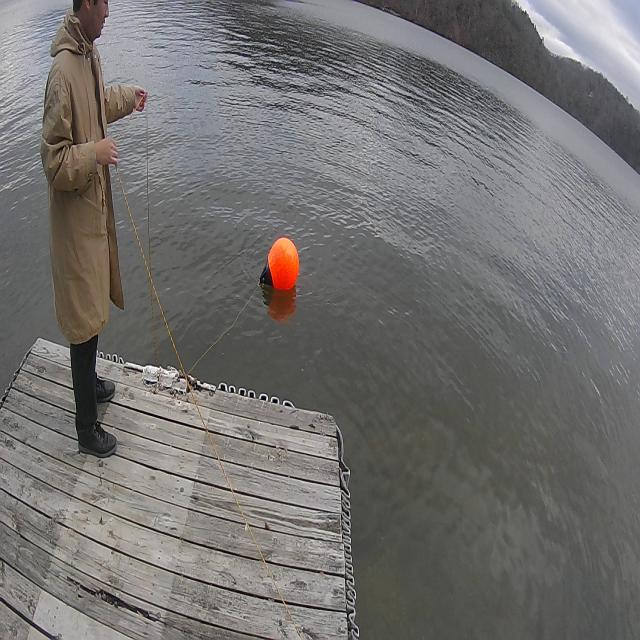Buoy: (256, 230, 304, 298)
